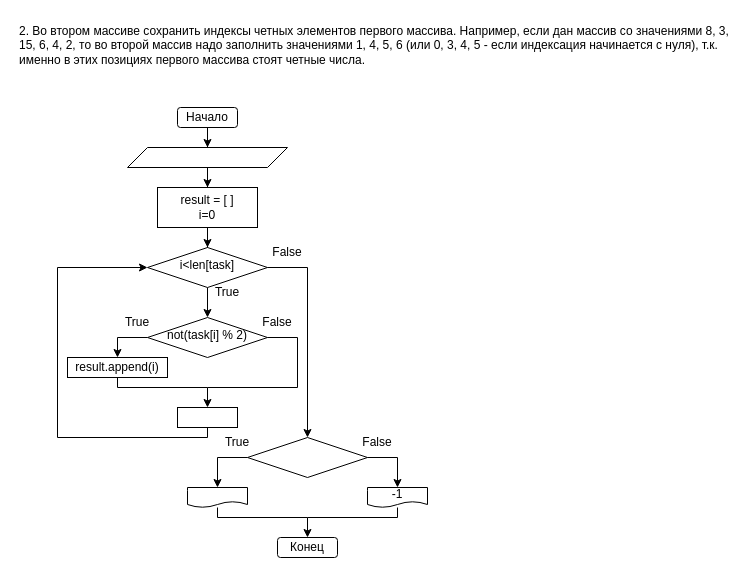
Image size: 754x575. Some labels were removed from this diagram. The shapes that lost their labels are listed below. From the top down, each one's centre as x and y in pixels, then its label:
At point (207, 157): "task = [массив чисел]".
At point (207, 417): "i+=1".
At point (307, 457): "result не пуст".
At point (217, 497): "result".
